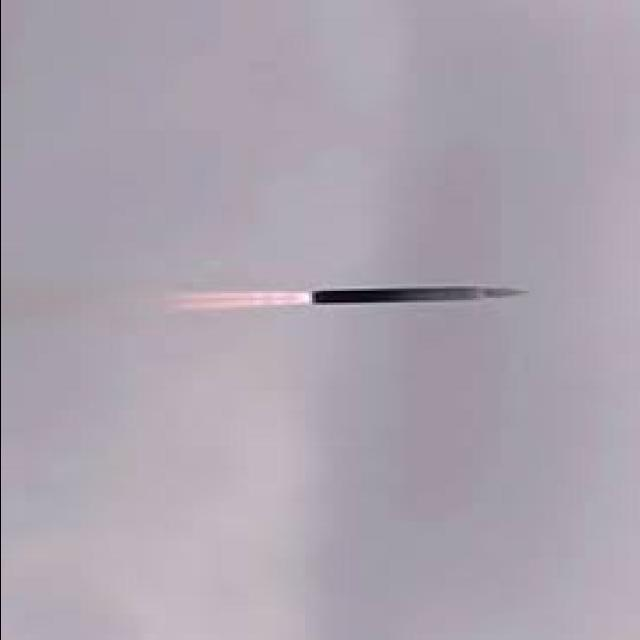missile: (303, 277, 533, 334)
